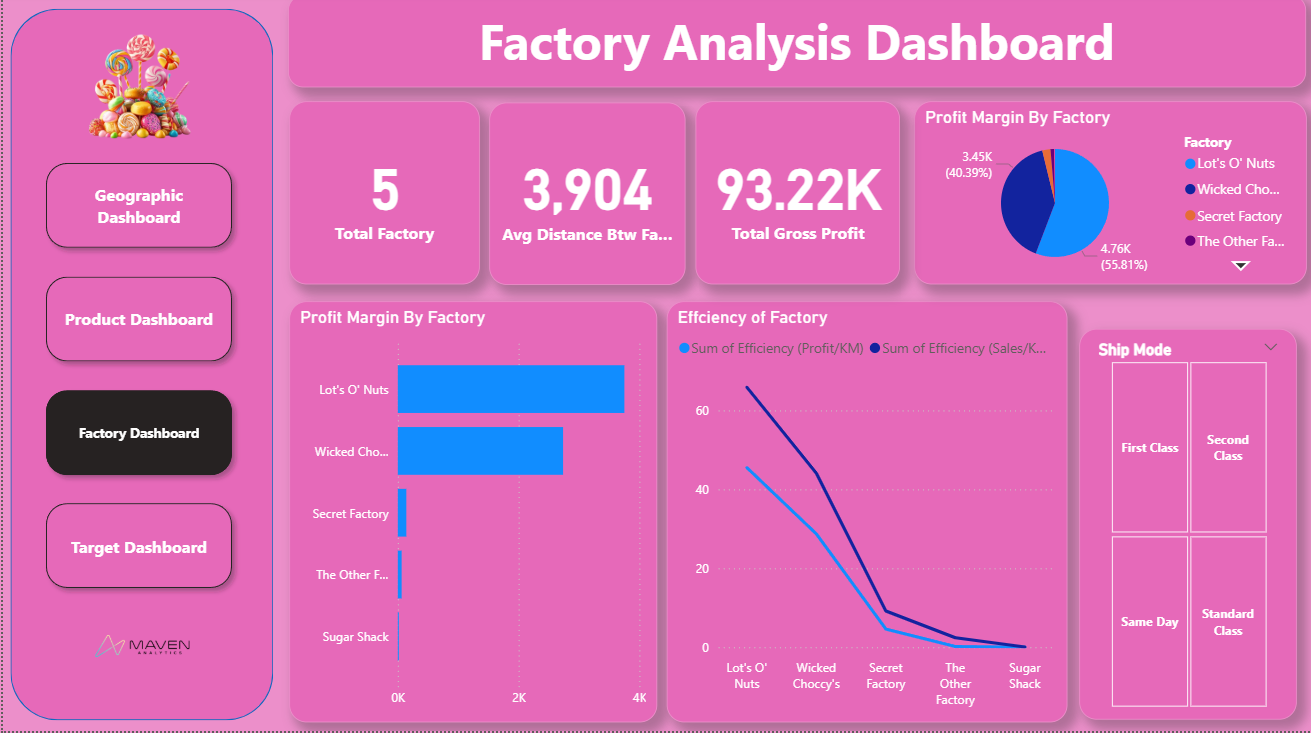

This screenshot's page, from the dashboard's own definition file:
{"tool":"powerbi","page":{"name":"Factory Dashboard","canvas":[1280,720],"ordinal":3},"visuals":[{"type":"textbox","box":[279.1,0,995.7,90.2],"z":0},{"type":"card","title":"Profit Margin % by Product Name and Division","fields":{"Values":["Count(Route Analysis.Factory)"]},"box":[279.7,104.3,186.4,179.5],"z":1000},{"type":"card","title":"Profit Margin % by Product Name and Division","fields":{"Values":["Max(Route Analysis.Avg Distance)"]},"box":[475.8,105.7,192,178.1],"z":2000},{"type":"clusteredBarChart","title":"Profit Margin By Factory","fields":{"Category":["cleaned_sales.Factory"],"Y":["Sum(cleaned_sales.Profit Margin %)"]},"box":[279.7,299.1,360.3,411.8],"z":3000},{"type":"lineChart","title":"Effciency of  Factory","fields":{"Category":["cleaned_sales.Factory"],"Y":["Sum(cleaned_sales.Efficiency (Profit/KM))","Sum(cleaned_sales.Efficiency (Sales/KM))"]},"box":[649.7,299.1,392.3,411.8],"z":4000},{"type":"pieChart","title":"Profit Margin By Factory","fields":{"Category":["cleaned_sales.Factory"],"Y":["Count(cleaned_sales.Order ID)"]},"box":[891.8,104.3,384,179.5],"z":5000},{"type":"slicer","title":"Profit Margin % by Product Name and Division","fields":{"Values":["cleaned_sales.Ship Mode"]},"box":[1053.2,327,212.9,382.6],"z":6000},{"type":"shape","box":[6.8,13.6,257,696.2],"z":7000,"group":"g1"},{"type":"card","title":"Profit Margin % by Product Name and Division","fields":{"Values":["Sum(cleaned_sales.Gross Profit)"]},"box":[677.6,104.3,200.3,179.5],"z":7000},{"type":"group","id":"g1","title":"Group 1","box":[6.8,13.6,257,696.2],"z":7001},{"type":"pageNavigator","box":[32.5,156,200.9,435.7],"z":9000,"group":"g1"},{"type":"image","box":[73.2,30.6,119.1,117.4],"z":11000,"group":"g1"},{"type":"image","box":[85.1,582.1,102.1,108.9],"z":11500,"group":"g1"}]}

Visuals, with their boxes in screenshot pixels (x1, y1, x2, y2), scaled from the page's 1280x720 canvas onto the 1311x733 screenshot:
textbox: detection(286, 0, 1306, 92)
"Profit Margin % by Product Name and Division" card: detection(286, 106, 477, 289)
"Profit Margin % by Product Name and Division" card: detection(487, 108, 684, 289)
"Profit Margin By Factory" clusteredBarChart: detection(286, 305, 656, 724)
"Effciency of  Factory" lineChart: detection(665, 305, 1067, 724)
"Profit Margin By Factory" pieChart: detection(913, 106, 1307, 289)
"Profit Margin % by Product Name and Division" slicer: detection(1079, 333, 1297, 722)
shape: detection(7, 14, 270, 723)
"Profit Margin % by Product Name and Division" card: detection(694, 106, 899, 289)
"Group 1" group: detection(7, 14, 270, 723)
pageNavigator: detection(33, 159, 239, 602)
image: detection(75, 31, 197, 151)
image: detection(87, 593, 192, 703)
